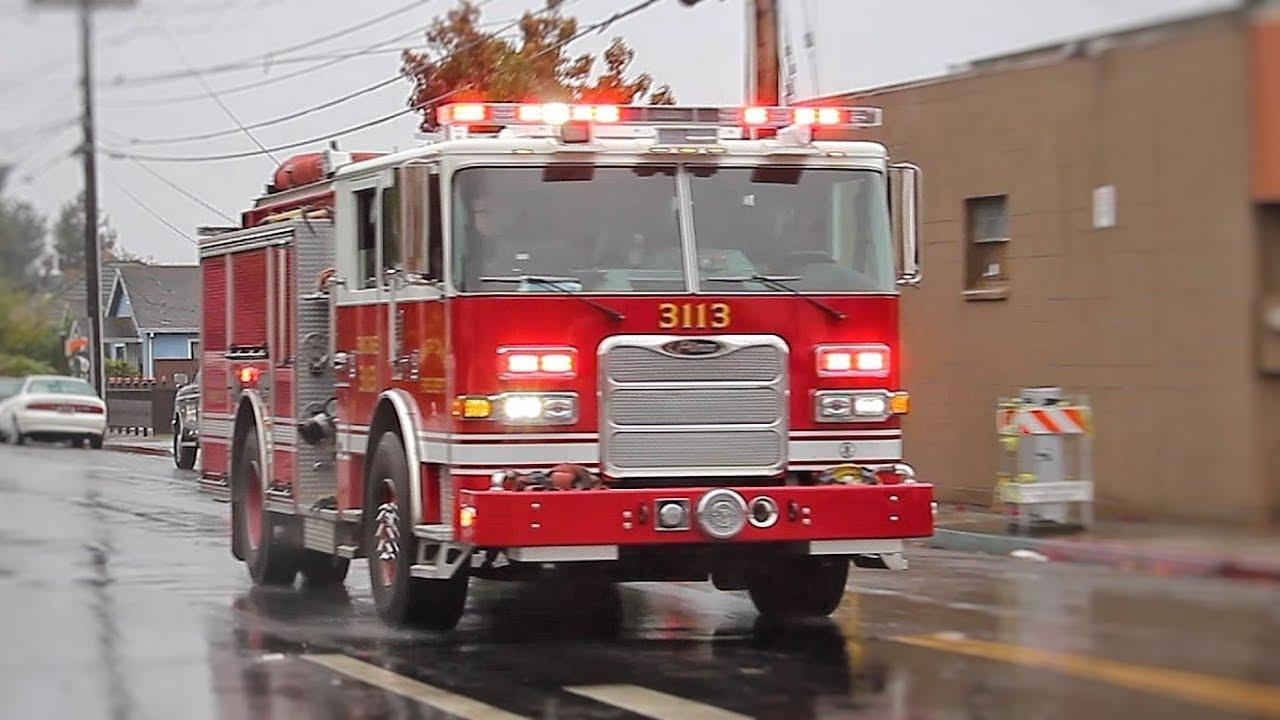Fire-engine: (187, 131, 931, 620)
